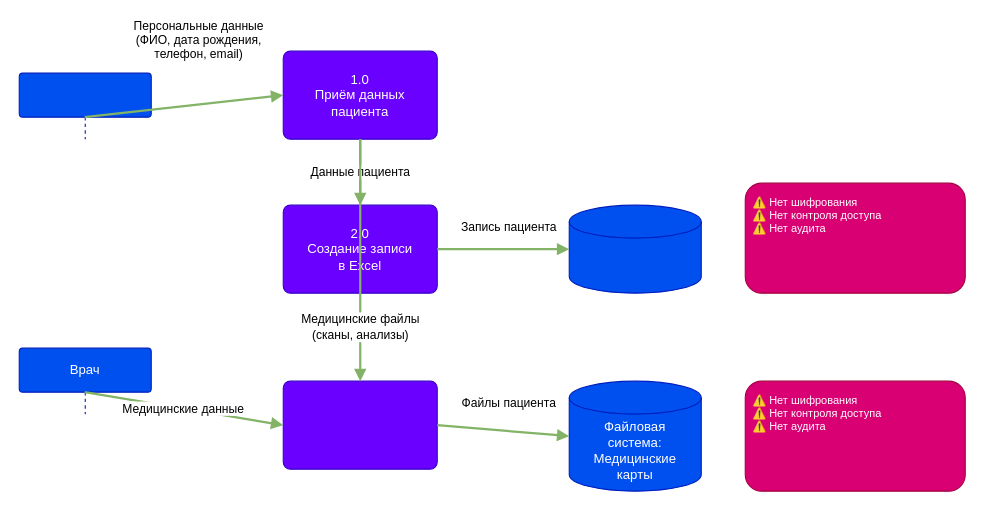
The diagram is 985 pixels wide and 512 high, and some of its shapes have lost their labels. The box of each missing label's shape, as (x1, y1, x2, y2) in pixels:
3.0 Сохранение медицинских файлов: (282, 380, 437, 469)
Excel: Список пациентов: (568, 204, 701, 293)
Пациент: (18, 72, 151, 139)
